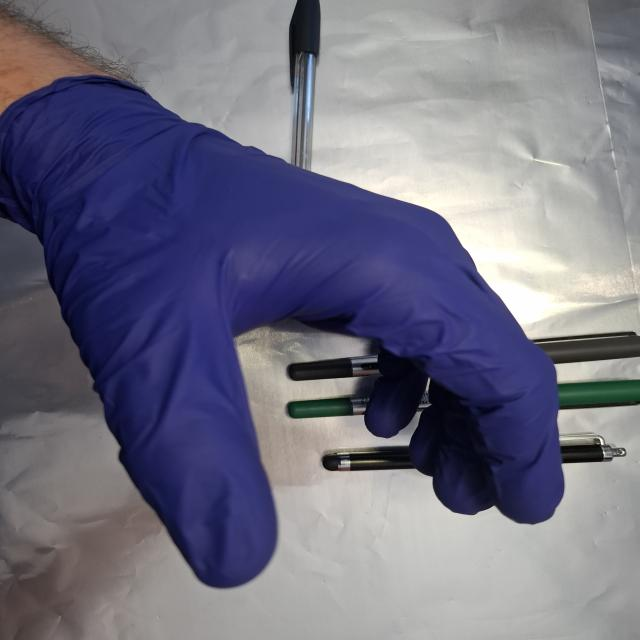glove_on: (10, 75, 573, 594)
